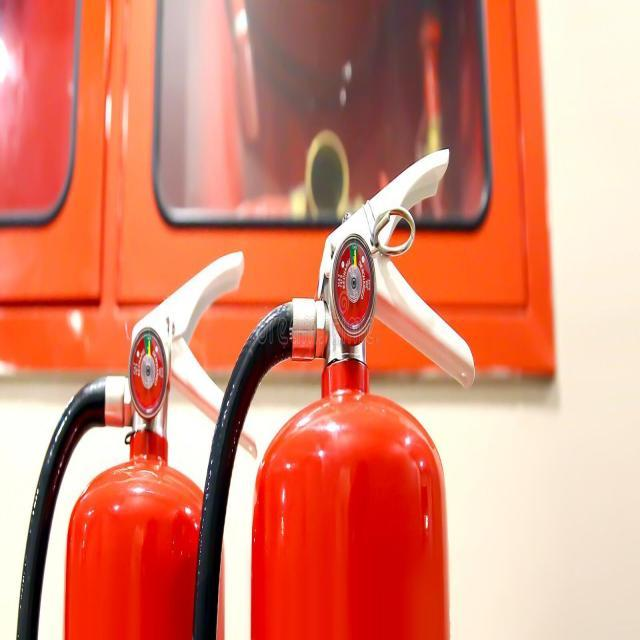fire_extinguisher: (188, 141, 478, 639), (11, 242, 263, 640)
